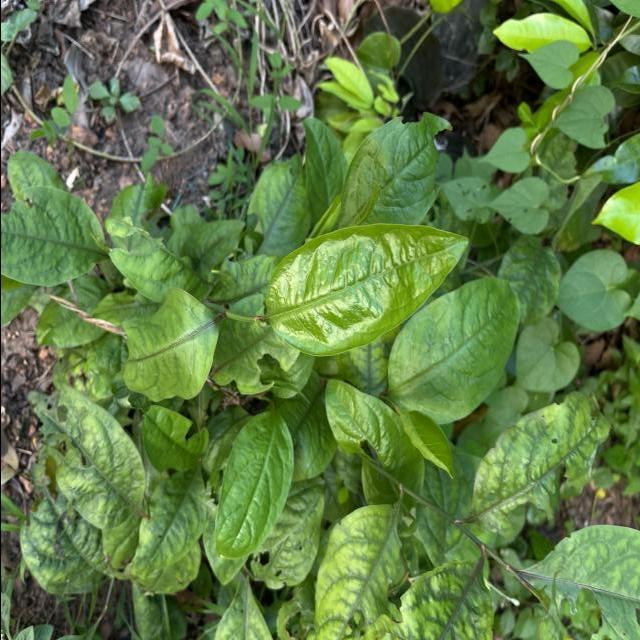Plumbago indica: (264, 220, 470, 358), (470, 388, 616, 534), (386, 274, 522, 428), (340, 103, 452, 224), (214, 407, 296, 563), (116, 282, 218, 404), (0, 182, 103, 290)
